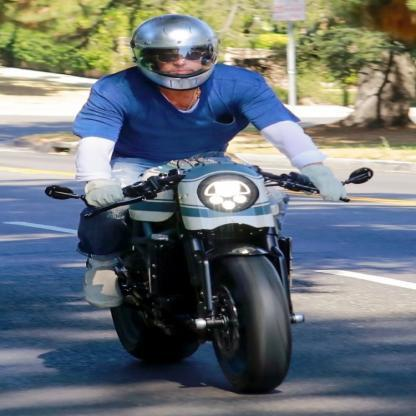helmet: (131, 13, 219, 91)
